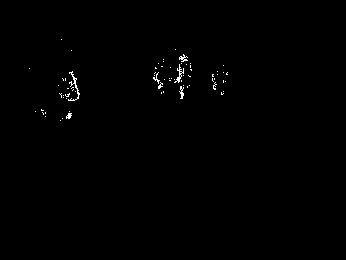person: (57, 71, 80, 119), (176, 54, 194, 100)
